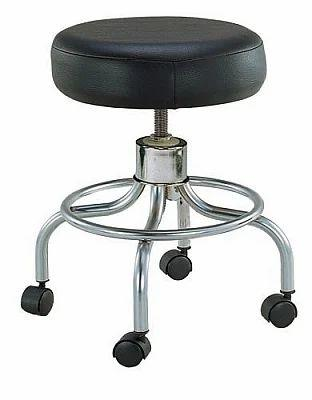stool: (20, 15, 297, 367)
